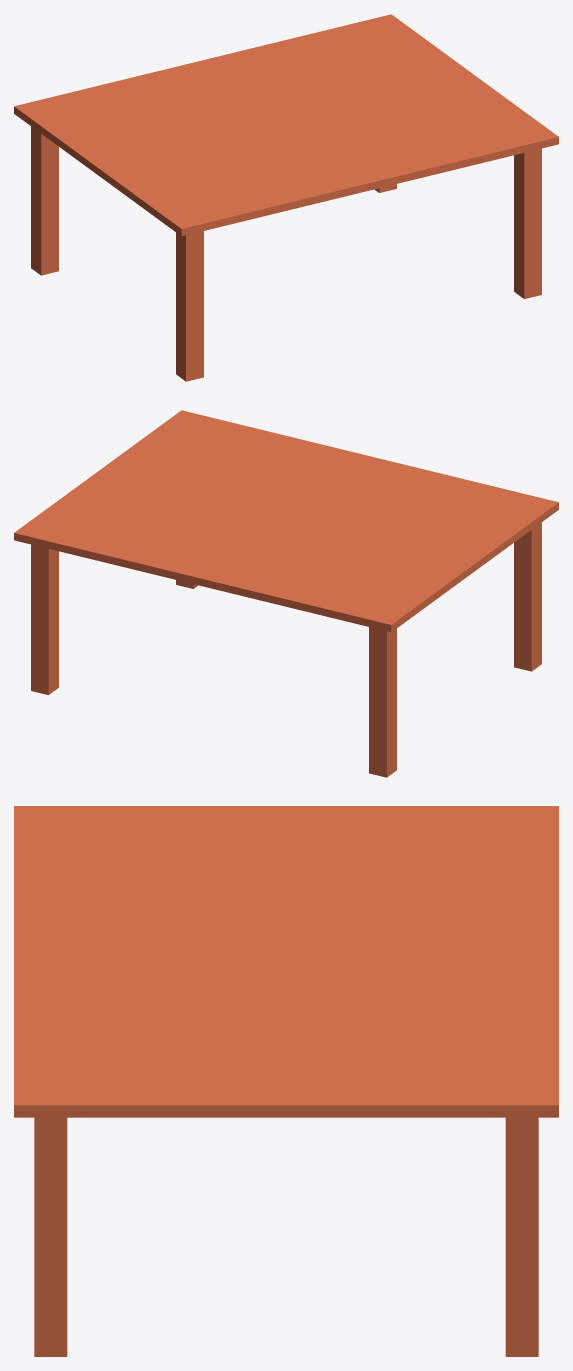
File: Table.fbx
3 renders of one model, top to bottom at view 1: azimuth 30°, elevation 25°; view 2: azimuth 150°, elevation 25°; view 3: azimuth 270°, elevation 25°, orthographic. The views are drawn at different scales.
Visible parts, largest first — view 1: Table; view 2: Table; view 3: Table.
Boxes of the visible parts, x1,y1,x2,y2 form: Table: (14,14,558,381); Table: (14,410,558,777); Table: (14,806,558,1356).
Size of the model in its own units: 152 by 61.61 by 117.
